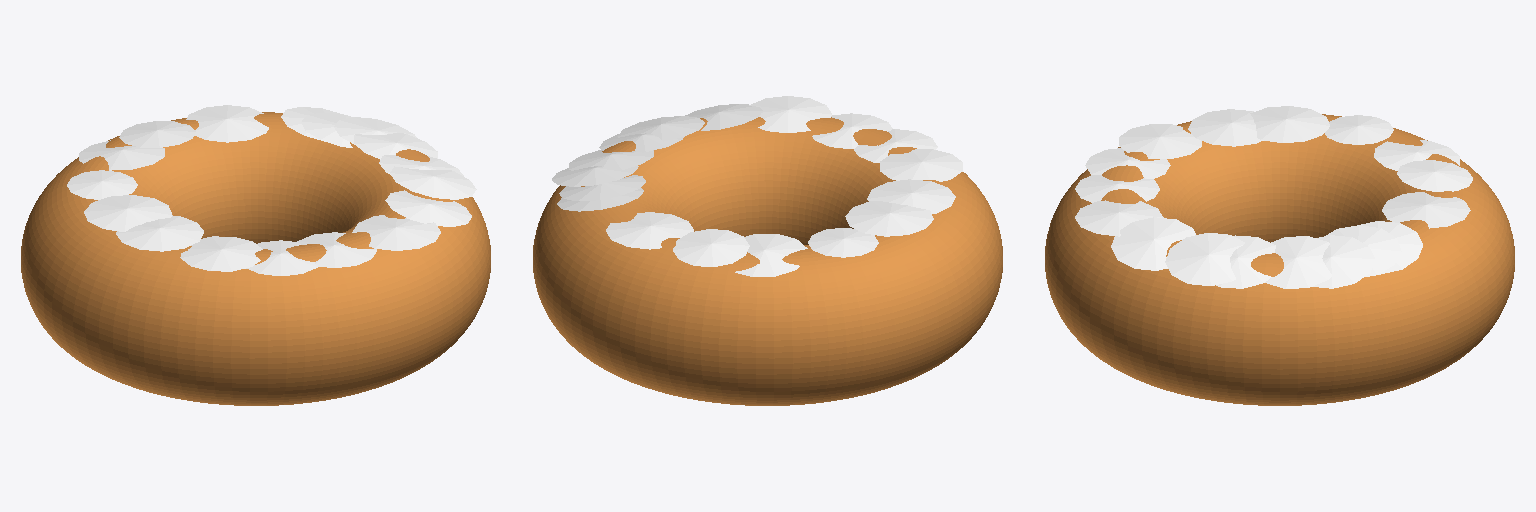
File: Donut5.obj
The picture shows the model from 3 angles: view 1: azimuth 30°, elevation 25°; view 2: azimuth 150°, elevation 25°; view 3: azimuth 270°, elevation 25°; orthographic projection.
Parts seen in each view (by area): view 1: mesh19; view 2: mesh19; view 3: mesh19.
Boxes of the visible parts, x1=… form: mesh19: x1=21, y1=105, x2=490, y2=405; mesh19: x1=533, y1=96, x2=1002, y2=405; mesh19: x1=1045, y1=106, x2=1514, y2=405.
Bounding box in the file's own units: 13.77 × 4.88 × 13.76.